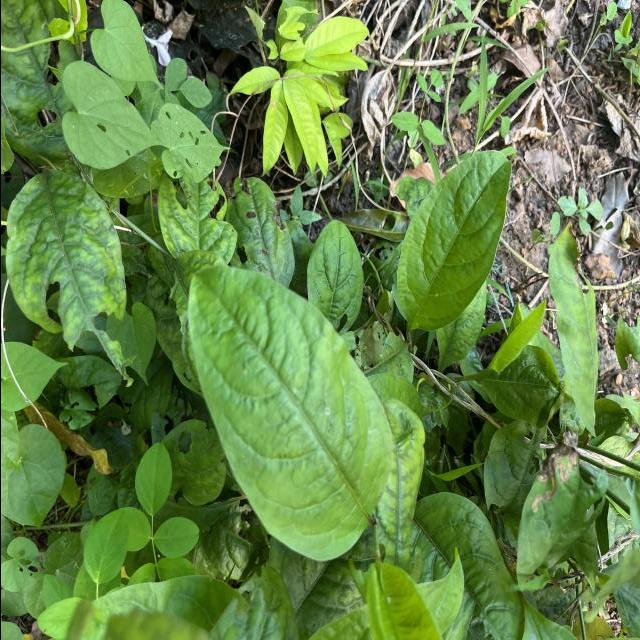Plumbago indica: (178, 262, 400, 564), (389, 132, 521, 336), (1, 161, 128, 354)
